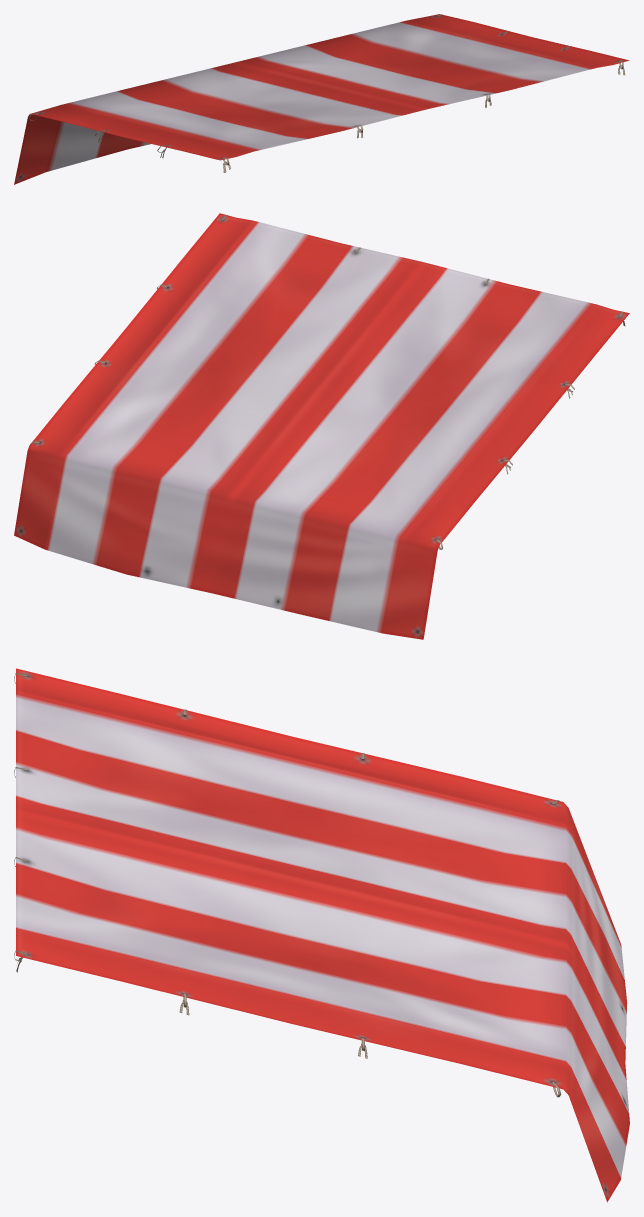
File: jsf_Ceiling_s02_c01_t02.fbx
The picture shows the model from 3 angles, top to bottom: view 1: azimuth 30°, elevation 25°; view 2: azimuth 150°, elevation 25°; view 3: azimuth 270°, elevation 25°; orthographic projection. The views are drawn at different scales.
Visible parts, largest first — view 1: jsf_Ceiling_s02_c01_t02; view 2: jsf_Ceiling_s02_c01_t02; view 3: jsf_Ceiling_s02_c01_t02.
Boxes of the visible parts, <box> form: jsf_Ceiling_s02_c01_t02: <box>14,14,629,184</box>; jsf_Ceiling_s02_c01_t02: <box>14,213,629,639</box>; jsf_Ceiling_s02_c01_t02: <box>14,668,629,1202</box>.
Bounding box in the file's own units: 263 × 106 × 234.
